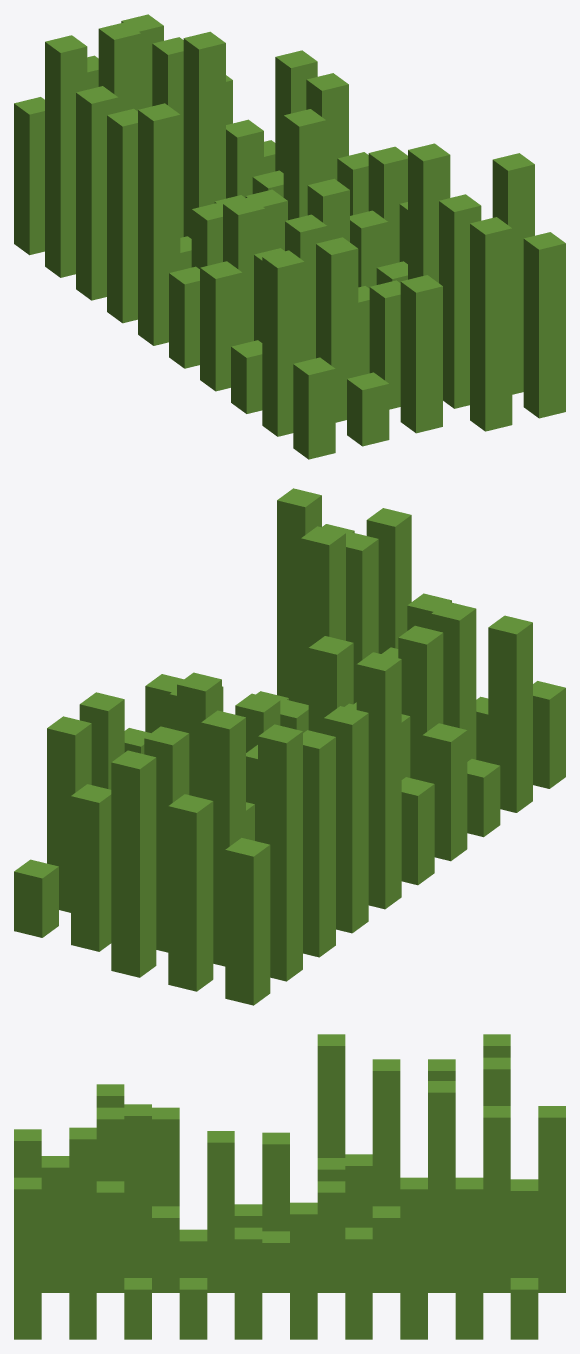
File: Plants-0-Grass .05.obj
3 renders of one model, top to bottom at view 1: azimuth 30°, elevation 25°; view 2: azimuth 150°, elevation 25°; view 3: azimuth 270°, elevation 25°, orthographic. The views are drawn at different scales.
Visible parts, largest first — view 1: Grass; view 2: Grass; view 3: Grass.
Part boxes in pixels (bbox=[...]): Grass: bbox=[14, 14, 565, 459]; Grass: bbox=[14, 488, 565, 1005]; Grass: bbox=[14, 1034, 565, 1339].
Size of the model in its own units: 0.9 by 0.8 by 2.
1 material, 1 textured.
